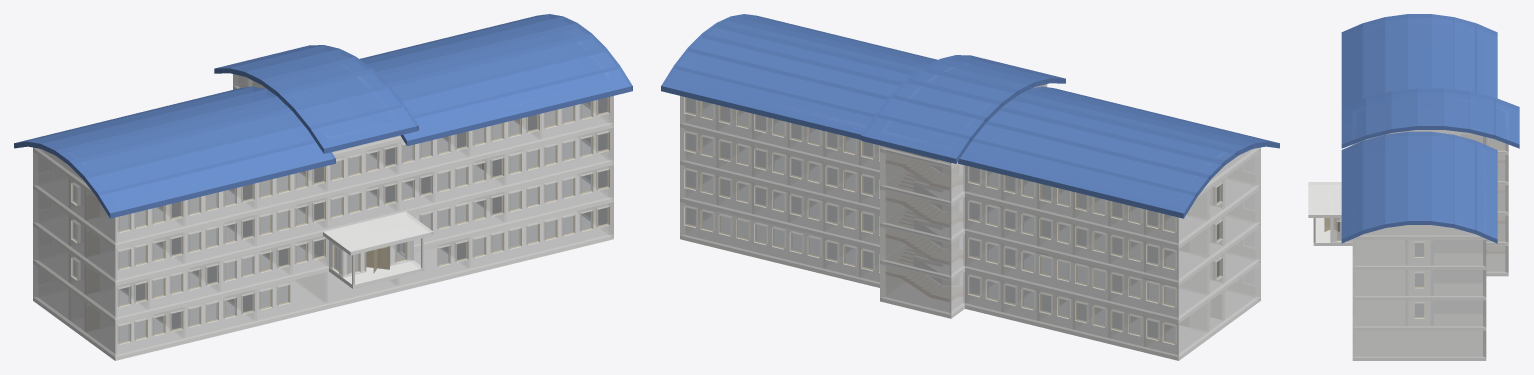
Rendered from institute.glb.
3 views of the same model, side by side, from view 1: azimuth 30°, elevation 25°; view 2: azimuth 150°, elevation 25°; view 3: azimuth 270°, elevation 25° (orthographic). The views are drawn at different scales.
Visible parts, largest first — view 1: Dachgeschoss, 1. Obergeschoss, Erdgeschoss, Keller, 2. Obergeschoss; view 2: Dachgeschoss, Erdgeschoss, 1. Obergeschoss, Keller, 2. Obergeschoss; view 3: Dachgeschoss, 1. Obergeschoss, Erdgeschoss, Keller, 2. Obergeschoss.
Boxes of the visible parts, bbox=[...] form: Dachgeschoss: bbox=[14, 14, 632, 218]; 1. Obergeschoss: bbox=[33, 127, 613, 286]; Erdgeschoss: bbox=[33, 164, 613, 323]; Keller: bbox=[33, 202, 613, 360]; 2. Obergeschoss: bbox=[33, 96, 613, 248]; Dachgeschoss: bbox=[661, 14, 1279, 218]; Erdgeschoss: bbox=[680, 164, 1260, 323]; 1. Obergeschoss: bbox=[680, 127, 1260, 286]; Keller: bbox=[680, 202, 1260, 360]; 2. Obergeschoss: bbox=[680, 96, 1260, 248]; Dachgeschoss: bbox=[1341, 14, 1519, 243]; 1. Obergeschoss: bbox=[1308, 175, 1508, 300]; Erdgeschoss: bbox=[1313, 205, 1508, 330]; Keller: bbox=[1352, 236, 1508, 360]; 2. Obergeschoss: bbox=[1352, 135, 1508, 269].
Size of the model in its own units: 44 by 15.35 by 19.
